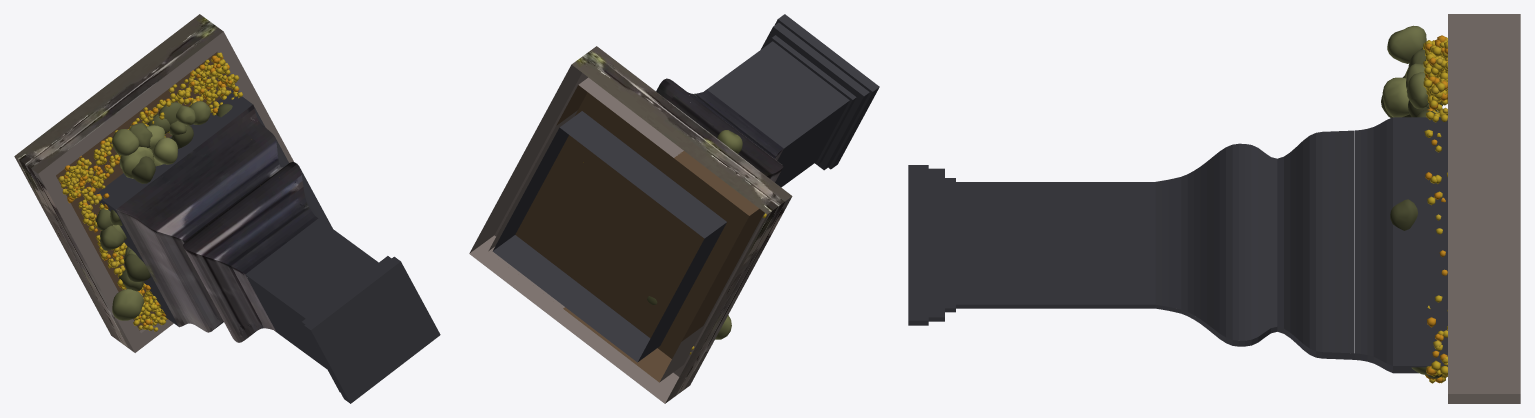
File: monument_group.glb
3 renders of one model, left to right at view 1: azimuth 30°, elevation 25°; view 2: azimuth 150°, elevation 25°; view 3: azimuth 270°, elevation 25°, orthographic. The views are drawn at different scales.
Parts seen in each view (by area): view 1: monument, monument_extension, island_planter, island_flowerbed; view 2: island_flowerbed, island_planter, monument, monument_extension; view 3: monument, monument_extension, island_planter, island_flowerbed.
Boxes of the visible parts, box(x1,y1,x2,y2) form: monument: box(95, 89, 332, 342); monument_extension: box(245, 218, 440, 403); island_planter: box(14, 14, 293, 352); island_flowerbed: box(56, 52, 242, 331); island_flowerbed: box(515, 85, 766, 382); island_planter: box(469, 46, 792, 403); monument: box(492, 78, 783, 362); monument_extension: box(707, 14, 879, 187); monument: box(1146, 117, 1447, 373); monument_extension: box(908, 165, 1145, 325); island_planter: box(1448, 14, 1520, 403); island_flowerbed: box(1381, 25, 1447, 383).
Bounding box in the file's own units: 0.1193 × 0.1211 × 0.1475.
Materials: 88 (78 with a texture image).
